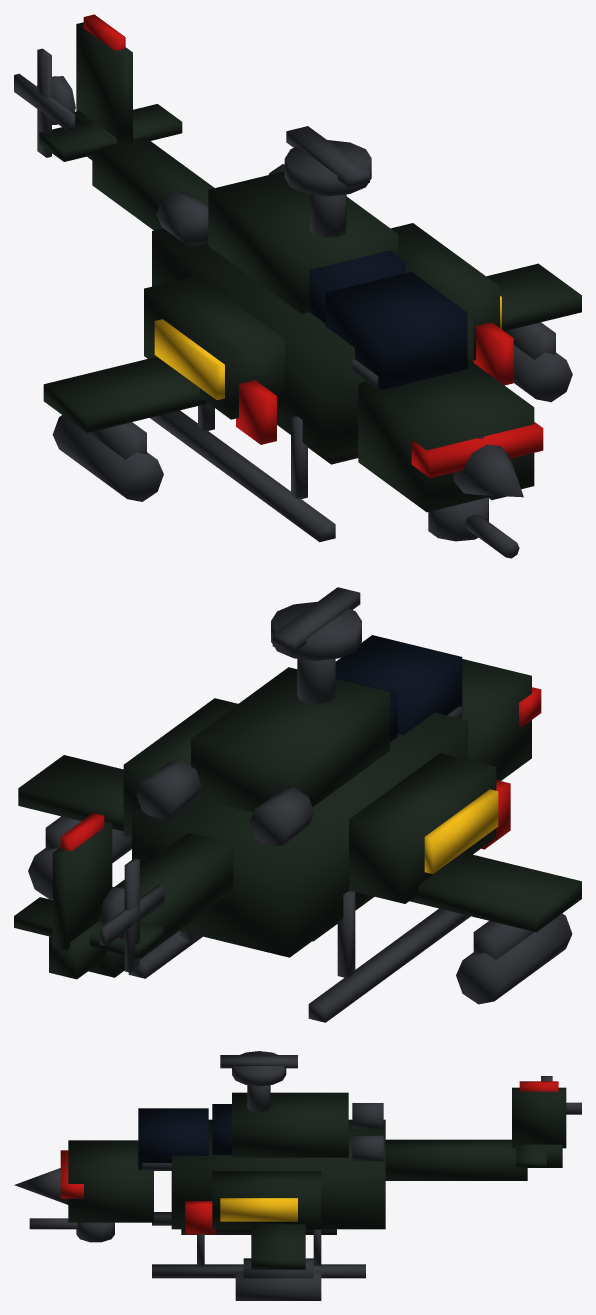
The model's file is helicopter.obj.
3 views of the same model, one above another, from view 1: azimuth 30°, elevation 25°; view 2: azimuth 150°, elevation 25°; view 3: azimuth 270°, elevation 25° (orthographic). The views are drawn at different scales.
Parts seen in each view (by area): view 1: HelicopterBody; view 2: HelicopterBody; view 3: HelicopterBody.
Boxes of the visible parts, x1,y1,x2,y2 form: HelicopterBody: (14, 14, 581, 558); HelicopterBody: (14, 587, 581, 1022); HelicopterBody: (14, 1051, 581, 1300).
Bounding box in the file's own units: 0.92 × 0.5425 × 1.46.
